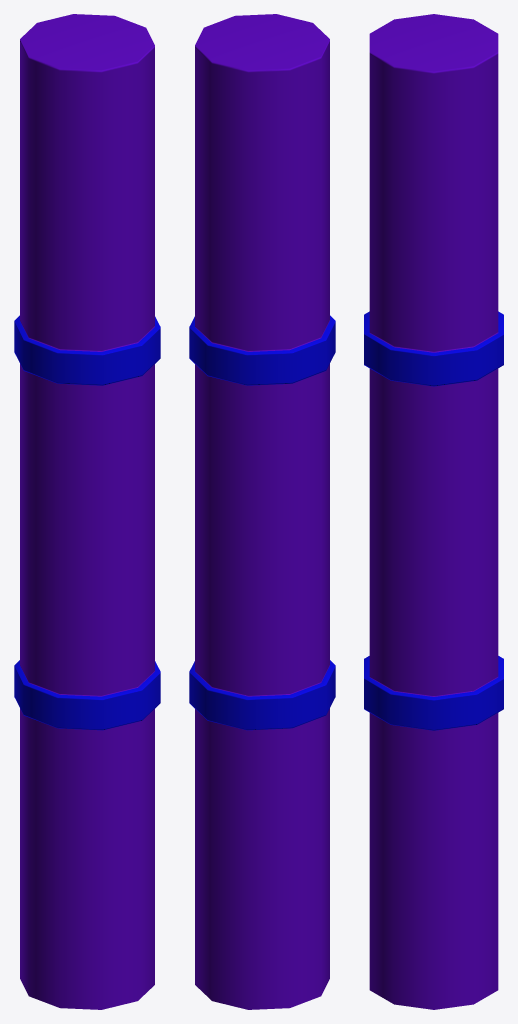
Rendered from PipePillar_LP.fbx.
The picture shows the model from 3 angles, left to right: view 1: azimuth 30°, elevation 25°; view 2: azimuth 150°, elevation 25°; view 3: azimuth 270°, elevation 25°; orthographic projection.
Visible parts, largest first — view 1: pCylinder2; view 2: pCylinder2; view 3: pCylinder2.
Boxes of the visible parts, bbox=[...] form: pCylinder2: bbox=[14, 14, 160, 1009]; pCylinder2: bbox=[189, 14, 335, 1009]; pCylinder2: bbox=[364, 14, 503, 1009].
Size of the model in its own units: 0.4259 by 3 by 0.4051.
